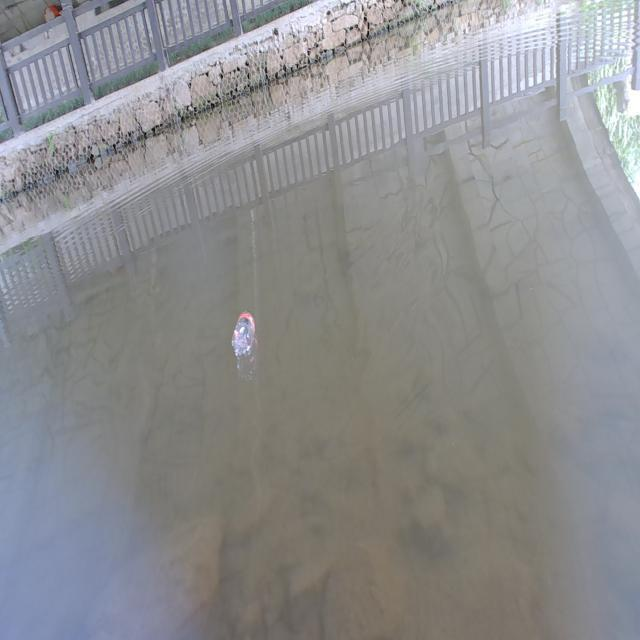bottle: (225, 306, 270, 362)
